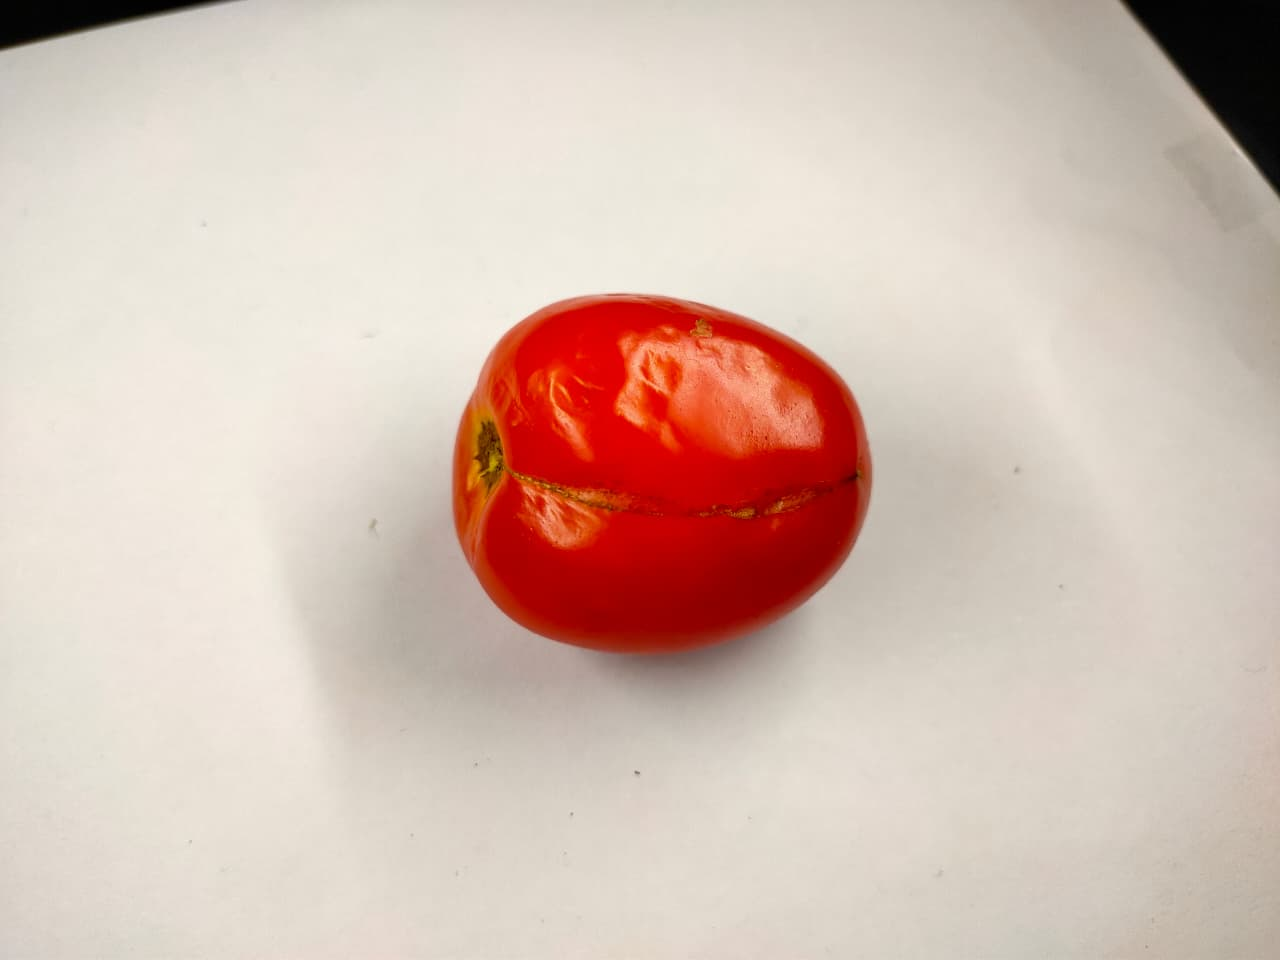damaged: (454, 299, 889, 664)
